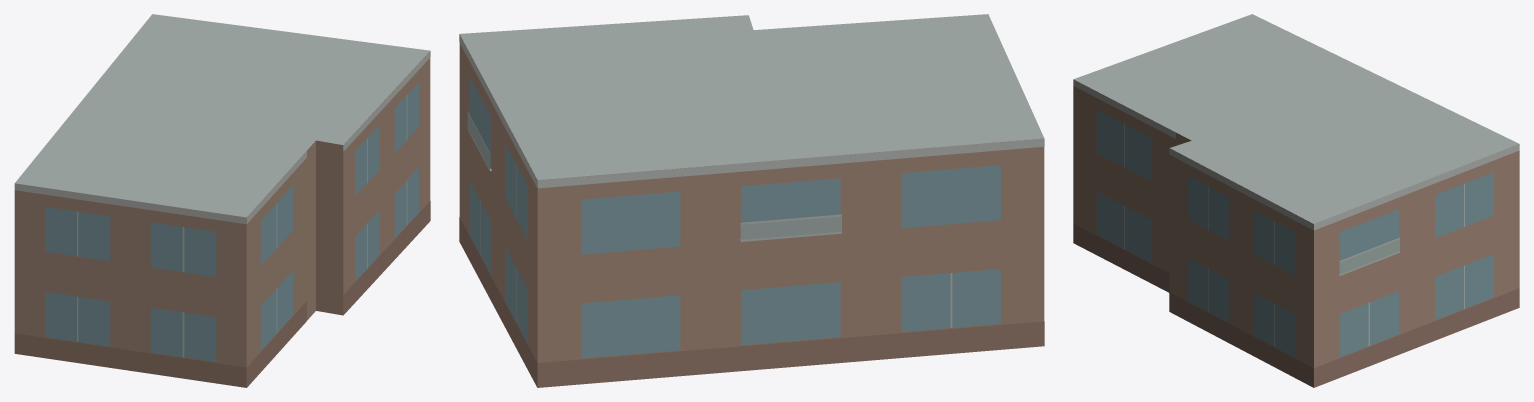
Rendered from survey-upis-32639407.glb.
3 views of the same model, side by side, from view 1: azimuth 30°, elevation 25°; view 2: azimuth 150°, elevation 25°; view 3: azimuth 270°, elevation 25° (orthographic). The views are drawn at different scales.
Visible parts, largest first — view 1: survey-upis-32639407.tmp; view 2: survey-upis-32639407.tmp; view 3: survey-upis-32639407.tmp.
Boxes of the visible parts, x1,y1,x2,y2 form: survey-upis-32639407.tmp: [14, 14, 430, 387]; survey-upis-32639407.tmp: [459, 14, 1044, 387]; survey-upis-32639407.tmp: [1073, 14, 1519, 387].
Size of the model in its own units: 16.79 by 6.1 by 15.07.
